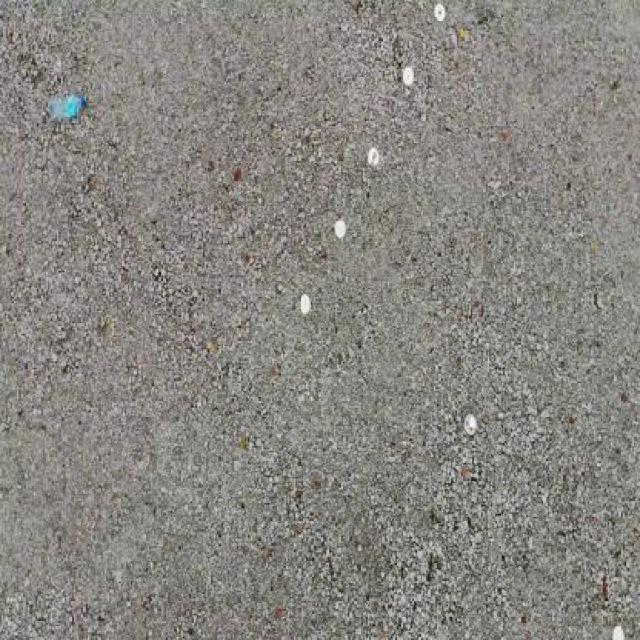Garbage: (48, 91, 85, 120), (464, 413, 477, 436)
